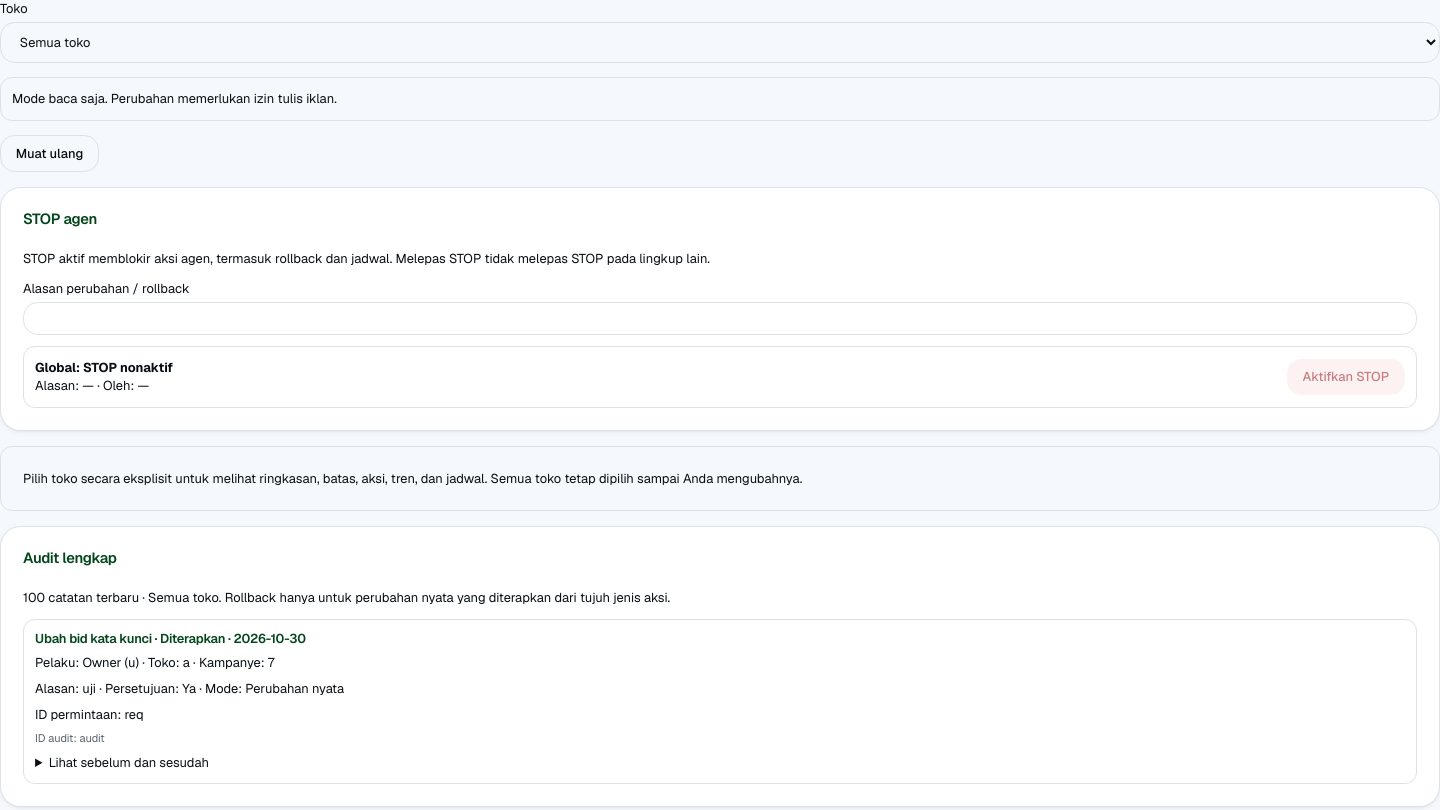
it: never auto selects a shop, even with loaded accounts; read-only permissions
Check: the button "Aktifkan STOP" is disabled, box [1287,358,1405,395]
Select "Demo" in the dropdown labelled "Toko" at {"x": 720, "y": 42}, box [0,22,1439,63]
(page scrolled)
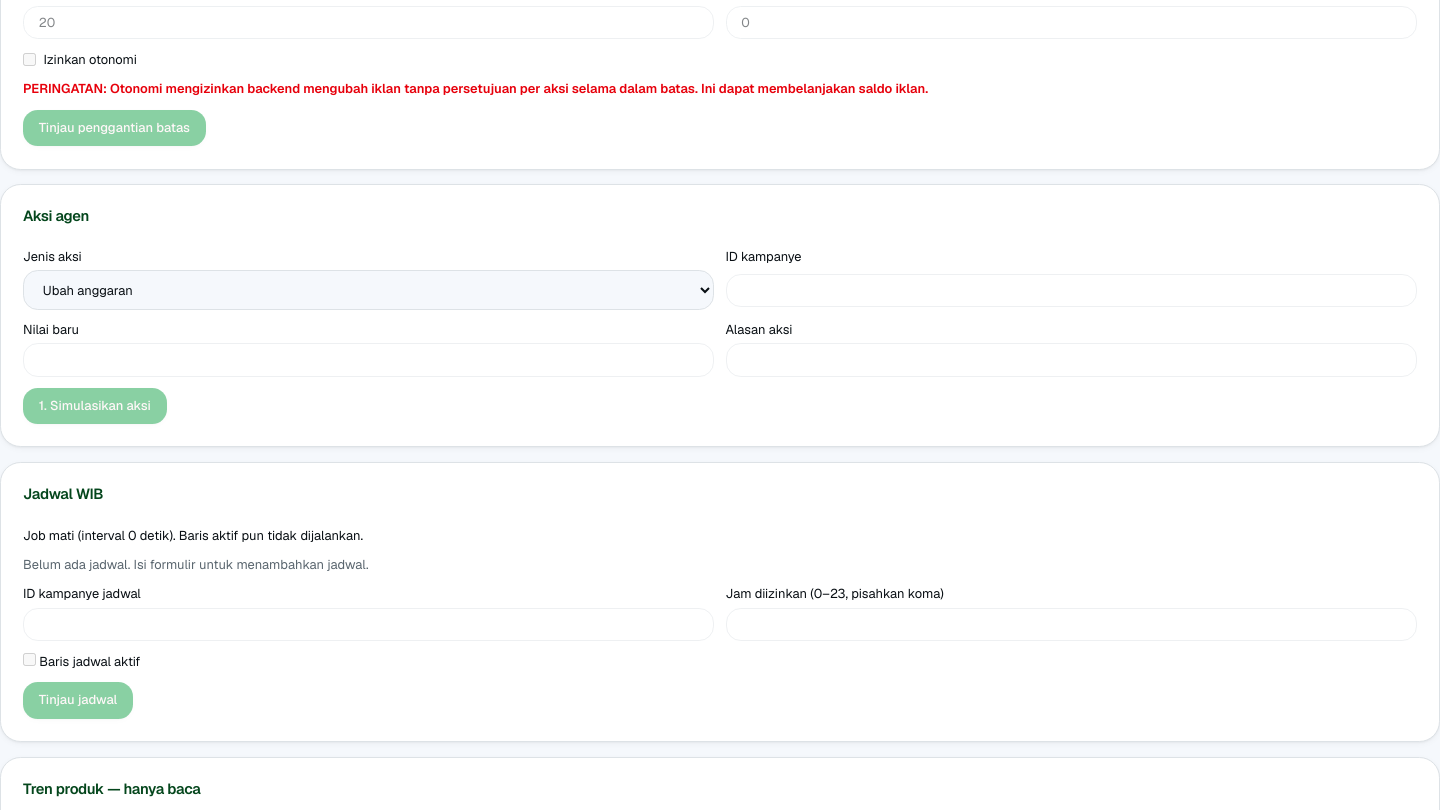
Check: the button "1. Simulasikan aksi" is disabled, box [23,388,166,424]
